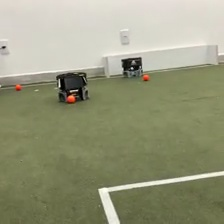ball: (65, 93, 76, 103), (141, 72, 150, 81), (14, 82, 22, 91)
goal: (102, 42, 221, 80)
robot: (54, 70, 90, 104), (118, 54, 145, 79)
